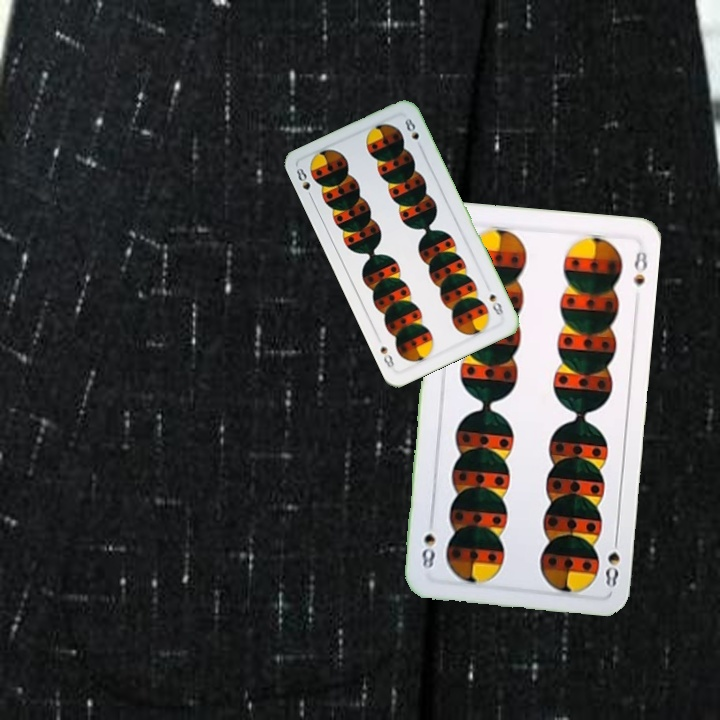S8: (598, 531, 622, 590), (292, 163, 316, 203), (485, 290, 506, 318)
